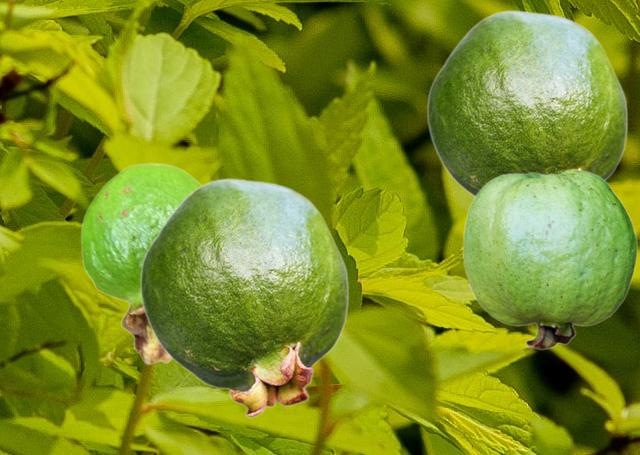guava: (139, 178, 348, 417), (426, 10, 627, 196), (462, 169, 637, 349), (80, 162, 201, 364)
